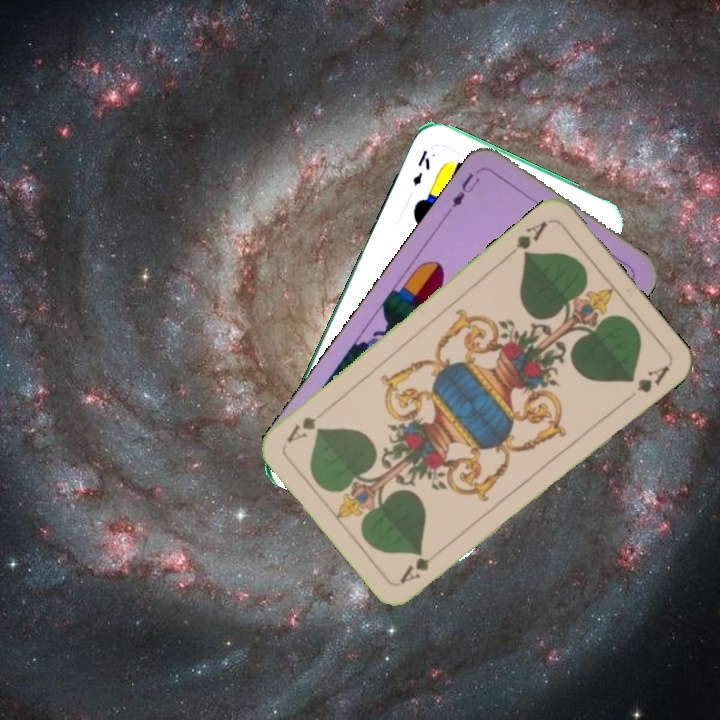EK: (408, 145, 433, 188)
EU: (444, 164, 486, 214)
GA: (395, 544, 446, 587), (503, 216, 550, 260)
